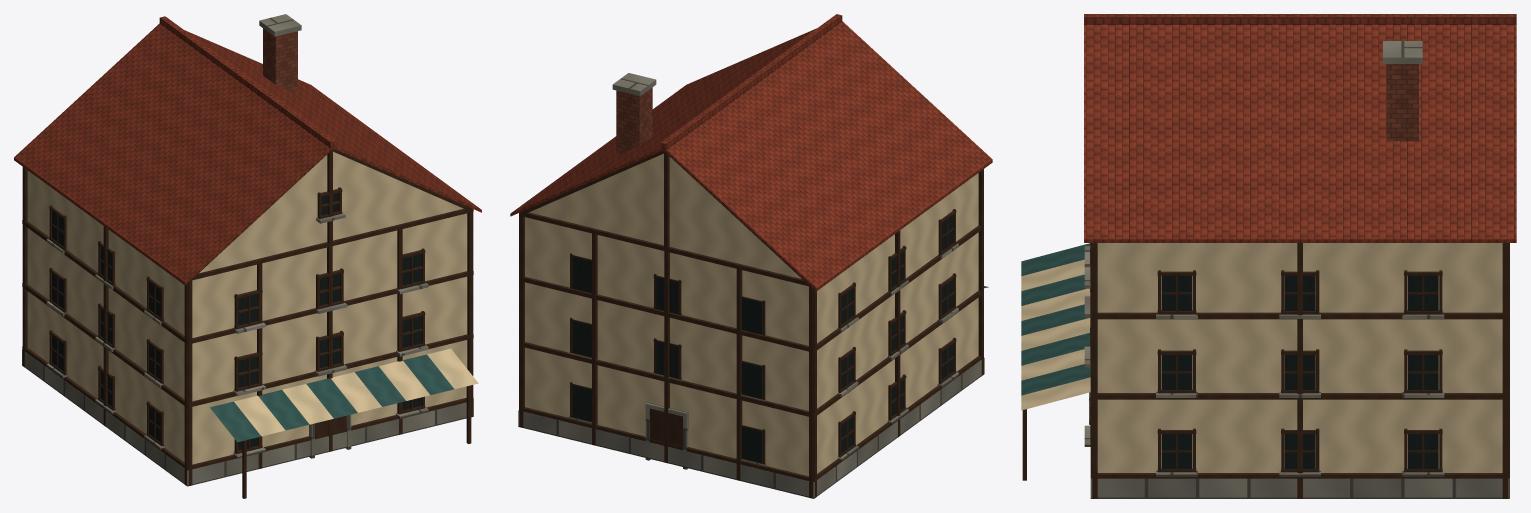
File: SG_House_C_Shop_LOD1.fbx
3 renders of one model, left to right at view 1: azimuth 30°, elevation 25°; view 2: azimuth 150°, elevation 25°; view 3: azimuth 270°, elevation 25°, orthographic. The views are drawn at different scales.
Visible parts, largest first — view 1: SG_House_C_Shop_Detail1; view 2: SG_House_C_Shop_Detail1; view 3: SG_House_C_Shop_Detail1.
Part boxes in pixels (x1=…): SG_House_C_Shop_Detail1: x1=14, y1=14, x2=481, y2=498; SG_House_C_Shop_Detail1: x1=510, y1=14, x2=992, y2=498; SG_House_C_Shop_Detail1: x1=1021, y1=14, x2=1516, y2=498.
Size of the model in its own units: 25.4 by 26.35 by 28.95.
